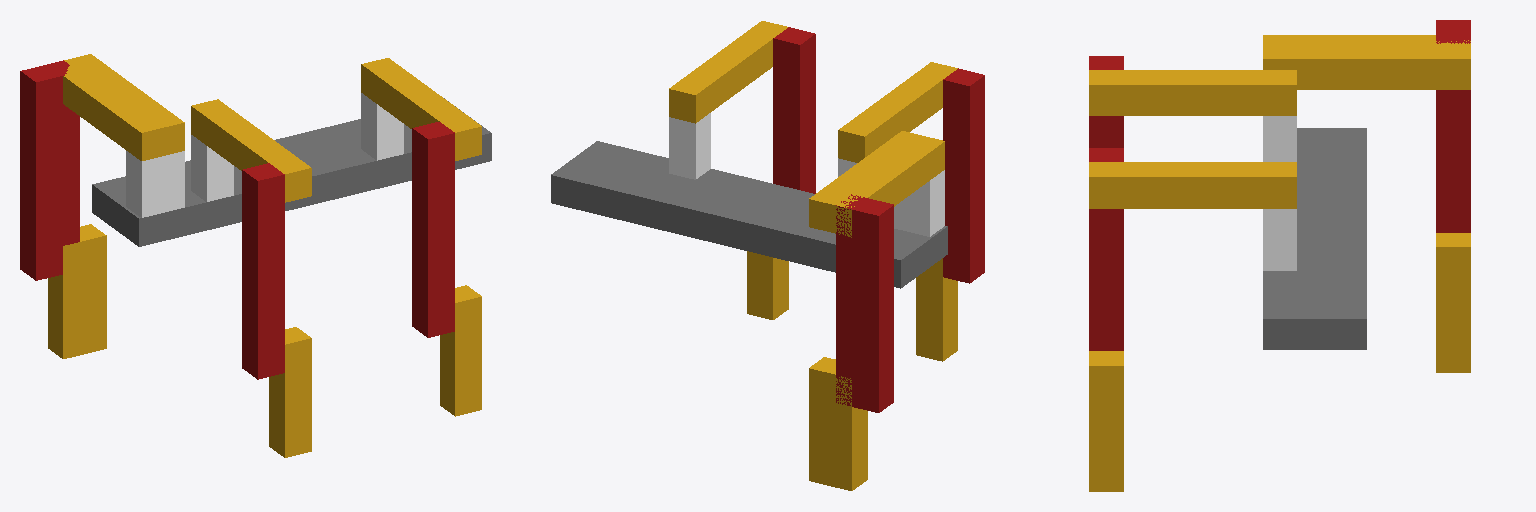
URDF robot description (v0):
<?xml version="1.0" encoding="utf-8"?>
<!-- =================================================================================== -->
<!-- |    This document was autogenerated by xacro from ../robots/v0variants/xacros/v0_4l_4.xacro | -->
<!-- |    EDITING THIS FILE BY HAND IS NOT RECOMMENDED                                 | -->
<!-- =================================================================================== -->
<robot name="v0">
  <material name="grey">
    <color rgba="0.5 0.5 0.5 1"/>
  </material>
  <material name="white">
    <color rgba="1 1 1 1"/>
  </material>
  <material name="yellow">
    <color rgba="0.91 0.7 0.14 1"/>
  </material>
  <material name="red">
    <color rgba="0.71 0.14 0.14 1"/>
  </material>
  <link name="body">
    <visual>
      <geometry>
        <box size="1.3 0.3 0.1"/>
      </geometry>
      <material name="grey"/>
      <origin rpy="0 0 0" xyz="0 0 0.7"/>
    </visual>
    <collision>
      <geometry>
        <box size="1.3 0.3 0.1"/>
      </geometry>
      <origin rpy="0 0 0" xyz="0 0 0.7"/>
    </collision>
    <inertial>
      <mass value="99.84"/>
      <inertia ixx="0.832" ixy="0.0" ixz="0.0" iyy="14.144" iyz="0.0" izz="14.8096"/>
    </inertial>
  </link>
  <link name="l1_segment_1">
    <visual>
      <geometry>
        <box size="0.1 0.1 0.2"/>
      </geometry>
      <material name="white"/>
      <origin rpy="0 0 0" xyz="0 0 0.1"/>
    </visual>
    <collision>
      <geometry>
        <box size="0.1 0.1 0.2"/>
      </geometry>
      <origin rpy="0 0 0" xyz="0 0 0.1"/>
    </collision>
    <inertial>
      <mass value="5.12"/>
      <inertia ixx="0.0213333333333" ixy="0.0" ixz="0.0" iyy="0.0213333333333" iyz="0.0" izz="0.00853333333333"/>
    </inertial>
  </link>
  <joint name="l1_base_to_joint_1" type="fixed">
    <parent link="body"/>
    <child link="l1_segment_1"/>
    <origin rpy="0 0 0" xyz="-0.5310527613466274 -0.1 0.75"/>
  </joint>
  <link name="l1_segment_2_HIP">
    <visual>
      <geometry>
        <box size="0.1 0.6 0.1"/>
      </geometry>
      <material name="yellow"/>
      <origin rpy="0 0 0" xyz="0 0.25 0"/>
    </visual>
    <collision>
      <geometry>
        <box size="0.1 0.6 0.1"/>
      </geometry>
      <origin rpy="0 0 0" xyz="0 0.25 0"/>
    </collision>
    <inertial>
      <mass value="15.36"/>
      <inertia ixx="0.4736" ixy="0.0" ixz="0.0" iyy="0.0256" iyz="0.0" izz="0.4736"/>
    </inertial>
  </link>
  <joint name="l1_joint_1_to_2" type="revolute">
    <parent link="l1_segment_1"/>
    <child link="l1_segment_2_HIP"/>
    <origin rpy="0 0 0" xyz="0 0 0.25"/>
    <axis xyz="0.0 0.0 1.0"/>
    <limit effort="2048" lower="-1.2" upper="1.2" velocity="20"/>
  </joint>
  <link name="l1_segment_3_THIGH">
    <visual>
      <geometry>
        <box size="0.1 0.1 0.7"/>
      </geometry>
      <material name="red"/>
      <origin rpy="0 0 0" xyz="0 0 -0.3"/>
    </visual>
    <collision>
      <geometry>
        <box size="0.1 0.1 0.7"/>
      </geometry>
      <origin rpy="0 0 0" xyz="0 0 -0.3"/>
    </collision>
    <inertial>
      <mass value="17.92"/>
      <inertia ixx="0.746666666667" ixy="0.0" ixz="0.0" iyy="0.746666666667" iyz="0.0" izz="0.0298666666667"/>
    </inertial>
  </link>
  <joint name="l1_joint_2_to_3" type="revolute">
    <parent link="l1_segment_2_HIP"/>
    <child link="l1_segment_3_THIGH"/>
    <origin rpy="0 0 0" xyz="-0.1 0.5 0"/>
    <axis xyz="1.0 0.0 0.0"/>
    <limit effort="2048" lower="-0.2" upper="0.75" velocity="20"/>
  </joint>
  <link name="l1_segment_4_FOOT">
    <visual>
      <geometry>
        <box size="0.1 0.1 0.4"/>
      </geometry>
      <material name="yellow"/>
      <origin rpy="0 0 0" xyz="0 0 -0.2"/>
    </visual>
    <collision>
      <geometry>
        <box size="0.1 0.1 0.4"/>
      </geometry>
      <origin rpy="0 0 0" xyz="0 0 -0.2"/>
    </collision>
    <inertial>
      <mass value="10.24"/>
      <inertia ixx="0.145066666667" ixy="0.0" ixz="0.0" iyy="0.145066666667" iyz="0.0" izz="0.0170666666667"/>
    </inertial>
  </link>
  <joint name="l1_joint_3_to_4_FOOT" type="revolute">
    <parent link="l1_segment_3_THIGH"/>
    <child link="l1_segment_4_FOOT"/>
    <origin rpy="0 0 0" xyz="0.1 0 -0.55"/>
    <axis xyz="1.0 0.0 0.0"/>
    <limit effort="2048" lower="-0.2" upper="0.5" velocity="20"/>
  </joint>
  <link name="r2_segment_1">
    <visual>
      <geometry>
        <box size="0.1 0.1 0.2"/>
      </geometry>
      <material name="white"/>
      <origin rpy="0 0 0" xyz="0 0 0.1"/>
    </visual>
    <collision>
      <geometry>
        <box size="0.1 0.1 0.2"/>
      </geometry>
      <origin rpy="0 0 0" xyz="0 0 0.1"/>
    </collision>
    <inertial>
      <mass value="5.12"/>
      <inertia ixx="0.0213333333333" ixy="0.0" ixz="0.0" iyy="0.0213333333333" iyz="0.0" izz="0.00853333333333"/>
    </inertial>
  </link>
  <joint name="r2_base_to_joint_1" type="fixed">
    <parent link="body"/>
    <child link="r2_segment_1"/>
    <origin rpy="0 0 0" xyz="-0.3509871742915181 -0.1 0.75"/>
  </joint>
  <link name="r2_segment_2_HIP">
    <visual>
      <geometry>
        <box size="0.1 0.6 0.1"/>
      </geometry>
      <material name="yellow"/>
      <origin rpy="0 0 0" xyz="0 -0.25 0"/>
    </visual>
    <collision>
      <geometry>
        <box size="0.1 0.6 0.1"/>
      </geometry>
      <origin rpy="0 0 0" xyz="0 -0.25 0"/>
    </collision>
    <inertial>
      <mass value="15.36"/>
      <inertia ixx="0.4736" ixy="0.0" ixz="0.0" iyy="0.0256" iyz="0.0" izz="0.4736"/>
    </inertial>
  </link>
  <joint name="r2_joint_1_to_2" type="revolute">
    <parent link="r2_segment_1"/>
    <child link="r2_segment_2_HIP"/>
    <origin rpy="0 0 0" xyz="0 0 0.25"/>
    <axis xyz="0.0 0.0 1.0"/>
    <limit effort="2048" lower="-1.2" upper="1.2" velocity="20"/>
  </joint>
  <link name="r2_segment_3_THIGH">
    <visual>
      <geometry>
        <box size="0.1 0.1 0.7"/>
      </geometry>
      <material name="red"/>
      <origin rpy="0 0 0" xyz="0 0 -0.3"/>
    </visual>
    <collision>
      <geometry>
        <box size="0.1 0.1 0.7"/>
      </geometry>
      <origin rpy="0 0 0" xyz="0 0 -0.3"/>
    </collision>
    <inertial>
      <mass value="17.92"/>
      <inertia ixx="0.746666666667" ixy="0.0" ixz="0.0" iyy="0.746666666667" iyz="0.0" izz="0.0298666666667"/>
    </inertial>
  </link>
  <joint name="r2_joint_2_to_3" type="revolute">
    <parent link="r2_segment_2_HIP"/>
    <child link="r2_segment_3_THIGH"/>
    <origin rpy="0 0 0" xyz="-0.1 -0.5 0"/>
    <axis xyz="1.0 0.0 0.0"/>
    <limit effort="2048" lower="-0.75" upper="0.2" velocity="20"/>
  </joint>
  <link name="r2_segment_4_FOOT">
    <visual>
      <geometry>
        <box size="0.1 0.1 0.4"/>
      </geometry>
      <material name="yellow"/>
      <origin rpy="0 0 0" xyz="0 0 -0.2"/>
    </visual>
    <collision>
      <geometry>
        <box size="0.1 0.1 0.4"/>
      </geometry>
      <origin rpy="0 0 0" xyz="0 0 -0.2"/>
    </collision>
    <inertial>
      <mass value="10.24"/>
      <inertia ixx="0.145066666667" ixy="0.0" ixz="0.0" iyy="0.145066666667" iyz="0.0" izz="0.0170666666667"/>
    </inertial>
  </link>
  <joint name="r2_joint_3_to_4_FOOT" type="revolute">
    <parent link="r2_segment_3_THIGH"/>
    <child link="r2_segment_4_FOOT"/>
    <origin rpy="0 0 0" xyz="0.1 0 -0.55"/>
    <axis xyz="1.0 0.0 0.0"/>
    <limit effort="2048" lower="-0.5" upper="0.2" velocity="20"/>
  </joint>
  <link name="l3_segment_1">
    <visual>
      <geometry>
        <box size="0.1 0.1 0.2"/>
      </geometry>
      <material name="white"/>
      <origin rpy="0 0 0" xyz="0 0 0.1"/>
    </visual>
    <collision>
      <geometry>
        <box size="0.1 0.1 0.2"/>
      </geometry>
      <origin rpy="0 0 0" xyz="0 0 0.1"/>
    </collision>
    <inertial>
      <mass value="5.12"/>
      <inertia ixx="0.0213333333333" ixy="0.0" ixz="0.0" iyy="0.0213333333333" iyz="0.0" izz="0.00853333333333"/>
    </inertial>
  </link>
  <joint name="l3_base_to_joint_1" type="fixed">
    <parent link="body"/>
    <child link="l3_segment_1"/>
    <origin rpy="0 0 0" xyz="-0.5911212815942346 -0.1 0.75"/>
  </joint>
  <link name="l3_segment_2_HIP">
    <visual>
      <geometry>
        <box size="0.1 0.6 0.1"/>
      </geometry>
      <material name="yellow"/>
      <origin rpy="0 0 0" xyz="0 0.25 0"/>
    </visual>
    <collision>
      <geometry>
        <box size="0.1 0.6 0.1"/>
      </geometry>
      <origin rpy="0 0 0" xyz="0 0.25 0"/>
    </collision>
    <inertial>
      <mass value="15.36"/>
      <inertia ixx="0.4736" ixy="0.0" ixz="0.0" iyy="0.0256" iyz="0.0" izz="0.4736"/>
    </inertial>
  </link>
  <joint name="l3_joint_1_to_2" type="revolute">
    <parent link="l3_segment_1"/>
    <child link="l3_segment_2_HIP"/>
    <origin rpy="0 0 0" xyz="0 0 0.25"/>
    <axis xyz="0.0 0.0 1.0"/>
    <limit effort="2048" lower="-1.2" upper="1.2" velocity="20"/>
  </joint>
  <link name="l3_segment_3_THIGH">
    <visual>
      <geometry>
        <box size="0.1 0.1 0.7"/>
      </geometry>
      <material name="red"/>
      <origin rpy="0 0 0" xyz="0 0 -0.3"/>
    </visual>
    <collision>
      <geometry>
        <box size="0.1 0.1 0.7"/>
      </geometry>
      <origin rpy="0 0 0" xyz="0 0 -0.3"/>
    </collision>
    <inertial>
      <mass value="17.92"/>
      <inertia ixx="0.746666666667" ixy="0.0" ixz="0.0" iyy="0.746666666667" iyz="0.0" izz="0.0298666666667"/>
    </inertial>
  </link>
  <joint name="l3_joint_2_to_3" type="revolute">
    <parent link="l3_segment_2_HIP"/>
    <child link="l3_segment_3_THIGH"/>
    <origin rpy="0 0 0" xyz="-0.1 0.5 0"/>
    <axis xyz="1.0 0.0 0.0"/>
    <limit effort="2048" lower="-0.2" upper="0.75" velocity="20"/>
  </joint>
  <link name="l3_segment_4_FOOT">
    <visual>
      <geometry>
        <box size="0.1 0.1 0.4"/>
      </geometry>
      <material name="yellow"/>
      <origin rpy="0 0 0" xyz="0 0 -0.2"/>
    </visual>
    <collision>
      <geometry>
        <box size="0.1 0.1 0.4"/>
      </geometry>
      <origin rpy="0 0 0" xyz="0 0 -0.2"/>
    </collision>
    <inertial>
      <mass value="10.24"/>
      <inertia ixx="0.145066666667" ixy="0.0" ixz="0.0" iyy="0.145066666667" iyz="0.0" izz="0.0170666666667"/>
    </inertial>
  </link>
  <joint name="l3_joint_3_to_4_FOOT" type="revolute">
    <parent link="l3_segment_3_THIGH"/>
    <child link="l3_segment_4_FOOT"/>
    <origin rpy="0 0 0" xyz="0.1 0 -0.55"/>
    <axis xyz="1.0 0.0 0.0"/>
    <limit effort="2048" lower="-0.2" upper="0.5" velocity="20"/>
  </joint>
  <link name="r4_segment_1">
    <visual>
      <geometry>
        <box size="0.1 0.1 0.2"/>
      </geometry>
      <material name="white"/>
      <origin rpy="0 0 0" xyz="0 0 0.1"/>
    </visual>
    <collision>
      <geometry>
        <box size="0.1 0.1 0.2"/>
      </geometry>
      <origin rpy="0 0 0" xyz="0 0 0.1"/>
    </collision>
    <inertial>
      <mass value="5.12"/>
      <inertia ixx="0.0213333333333" ixy="0.0" ixz="0.0" iyy="0.0213333333333" iyz="0.0" izz="0.00853333333333"/>
    </inertial>
  </link>
  <joint name="r4_base_to_joint_1" type="fixed">
    <parent link="body"/>
    <child link="r4_segment_1"/>
    <origin rpy="0 0 0" xyz="0.2774051036800115 -0.1 0.75"/>
  </joint>
  <link name="r4_segment_2_HIP">
    <visual>
      <geometry>
        <box size="0.1 0.6 0.1"/>
      </geometry>
      <material name="yellow"/>
      <origin rpy="0 0 0" xyz="0 -0.25 0"/>
    </visual>
    <collision>
      <geometry>
        <box size="0.1 0.6 0.1"/>
      </geometry>
      <origin rpy="0 0 0" xyz="0 -0.25 0"/>
    </collision>
    <inertial>
      <mass value="15.36"/>
      <inertia ixx="0.4736" ixy="0.0" ixz="0.0" iyy="0.0256" iyz="0.0" izz="0.4736"/>
    </inertial>
  </link>
  <joint name="r4_joint_1_to_2" type="revolute">
    <parent link="r4_segment_1"/>
    <child link="r4_segment_2_HIP"/>
    <origin rpy="0 0 0" xyz="0 0 0.25"/>
    <axis xyz="0.0 0.0 1.0"/>
    <limit effort="2048" lower="-1.2" upper="1.2" velocity="20"/>
  </joint>
  <link name="r4_segment_3_THIGH">
    <visual>
      <geometry>
        <box size="0.1 0.1 0.7"/>
      </geometry>
      <material name="red"/>
      <origin rpy="0 0 0" xyz="0 0 -0.3"/>
    </visual>
    <collision>
      <geometry>
        <box size="0.1 0.1 0.7"/>
      </geometry>
      <origin rpy="0 0 0" xyz="0 0 -0.3"/>
    </collision>
    <inertial>
      <mass value="17.92"/>
      <inertia ixx="0.746666666667" ixy="0.0" ixz="0.0" iyy="0.746666666667" iyz="0.0" izz="0.0298666666667"/>
    </inertial>
  </link>
  <joint name="r4_joint_2_to_3" type="revolute">
    <parent link="r4_segment_2_HIP"/>
    <child link="r4_segment_3_THIGH"/>
    <origin rpy="0 0 0" xyz="-0.1 -0.5 0"/>
    <axis xyz="1.0 0.0 0.0"/>
    <limit effort="2048" lower="-0.75" upper="0.2" velocity="20"/>
  </joint>
  <link name="r4_segment_4_FOOT">
    <visual>
      <geometry>
        <box size="0.1 0.1 0.4"/>
      </geometry>
      <material name="yellow"/>
      <origin rpy="0 0 0" xyz="0 0 -0.2"/>
    </visual>
    <collision>
      <geometry>
        <box size="0.1 0.1 0.4"/>
      </geometry>
      <origin rpy="0 0 0" xyz="0 0 -0.2"/>
    </collision>
    <inertial>
      <mass value="10.24"/>
      <inertia ixx="0.145066666667" ixy="0.0" ixz="0.0" iyy="0.145066666667" iyz="0.0" izz="0.0170666666667"/>
    </inertial>
  </link>
  <joint name="r4_joint_3_to_4_FOOT" type="revolute">
    <parent link="r4_segment_3_THIGH"/>
    <child link="r4_segment_4_FOOT"/>
    <origin rpy="0 0 0" xyz="0.1 0 -0.55"/>
    <axis xyz="1.0 0.0 0.0"/>
    <limit effort="2048" lower="-0.5" upper="0.2" velocity="20"/>
  </joint>
</robot>

--- Render facts (derived) ---
3 views of the same robot in one strip: view 1: azimuth 30°, elevation 25°; view 2: azimuth 150°, elevation 25°; view 3: azimuth 270°, elevation 25° (orthographic).
Model v0 with 17 links and 16 joints (12 revolute, 4 fixed), rooted at body, posed every joint at zero.
Links seen in each view (by area): view 1: body, r2_segment_3_THIGH, r4_segment_3_THIGH, l3_segment_3_THIGH, r4_segment_2_HIP, r2_segment_2_HIP, r2_segment_4_FOOT, r4_segment_4_FOOT, l3_segment_2_HIP, l3_segment_4_FOOT, l1_segment_3_THIGH, l1_segment_2_HIP (+5 smaller); view 2: body, r2_segment_3_THIGH, l3_segment_3_THIGH, r4_segment_3_THIGH, r4_segment_2_HIP, r2_segment_2_HIP, l3_segment_2_HIP, l1_segment_3_THIGH, r2_segment_4_FOOT, l1_segment_4_FOOT, l3_segment_4_FOOT, r4_segment_4_FOOT (+4 smaller); view 3: body, r4_segment_2_HIP, r2_segment_2_HIP, l1_segment_2_HIP, l1_segment_3_THIGH, r4_segment_3_THIGH, r4_segment_4_FOOT, l1_segment_4_FOOT, l3_segment_2_HIP, r4_segment_1, r2_segment_3_THIGH, r2_segment_1.
Link boxes in pixels (<box>): body: <box>92,98,491,246</box>; r2_segment_3_THIGH: <box>242,163,284,379</box>; r4_segment_3_THIGH: <box>412,122,454,337</box>; l3_segment_3_THIGH: <box>20,67,62,280</box>; r4_segment_2_HIP: <box>361,58,481,160</box>; r2_segment_2_HIP: <box>191,99,311,202</box>; r2_segment_4_FOOT: <box>269,327,311,457</box>; r4_segment_4_FOOT: <box>440,285,481,416</box>; l3_segment_2_HIP: <box>63,59,168,160</box>; l3_segment_4_FOOT: <box>48,240,89,358</box>; l1_segment_3_THIGH: <box>37,60,79,276</box>; l1_segment_2_HIP: <box>64,54,184,156</box>; body: <box>551,141,947,288</box>; r2_segment_3_THIGH: <box>943,68,984,283</box>; l3_segment_3_THIGH: <box>852,201,893,412</box>; r4_segment_3_THIGH: <box>773,27,815,193</box>; r4_segment_2_HIP: <box>669,21,787,123</box>; r2_segment_2_HIP: <box>838,62,957,162</box>; l3_segment_2_HIP: <box>825,135,944,237</box>; l1_segment_3_THIGH: <box>836,194,876,408</box>; r2_segment_4_FOOT: <box>916,258,957,361</box>; l1_segment_4_FOOT: <box>809,357,835,487</box>; l3_segment_4_FOOT: <box>825,364,867,490</box>; r4_segment_4_FOOT: <box>747,251,788,319</box>; body: <box>1263,128,1366,349</box>; r4_segment_2_HIP: <box>1089,162,1296,208</box>; r2_segment_2_HIP: <box>1089,70,1296,115</box>; l1_segment_2_HIP: <box>1263,44,1470,89</box>; l1_segment_3_THIGH: <box>1436,29,1470,232</box>; r4_segment_3_THIGH: <box>1089,148,1123,350</box>; r4_segment_4_FOOT: <box>1089,351,1123,491</box>; l1_segment_4_FOOT: <box>1436,233,1470,372</box>; l3_segment_2_HIP: <box>1263,35,1470,49</box>; r4_segment_1: <box>1263,209,1296,270</box>; r2_segment_3_THIGH: <box>1089,56,1123,147</box>; r2_segment_1: <box>1263,116,1296,161</box>.
Bounding box of the posed robot: 1.39 × 1.1 × 1 m (x, y, z).
Geometry: primitives only (box / cylinder / sphere), no mesh files.